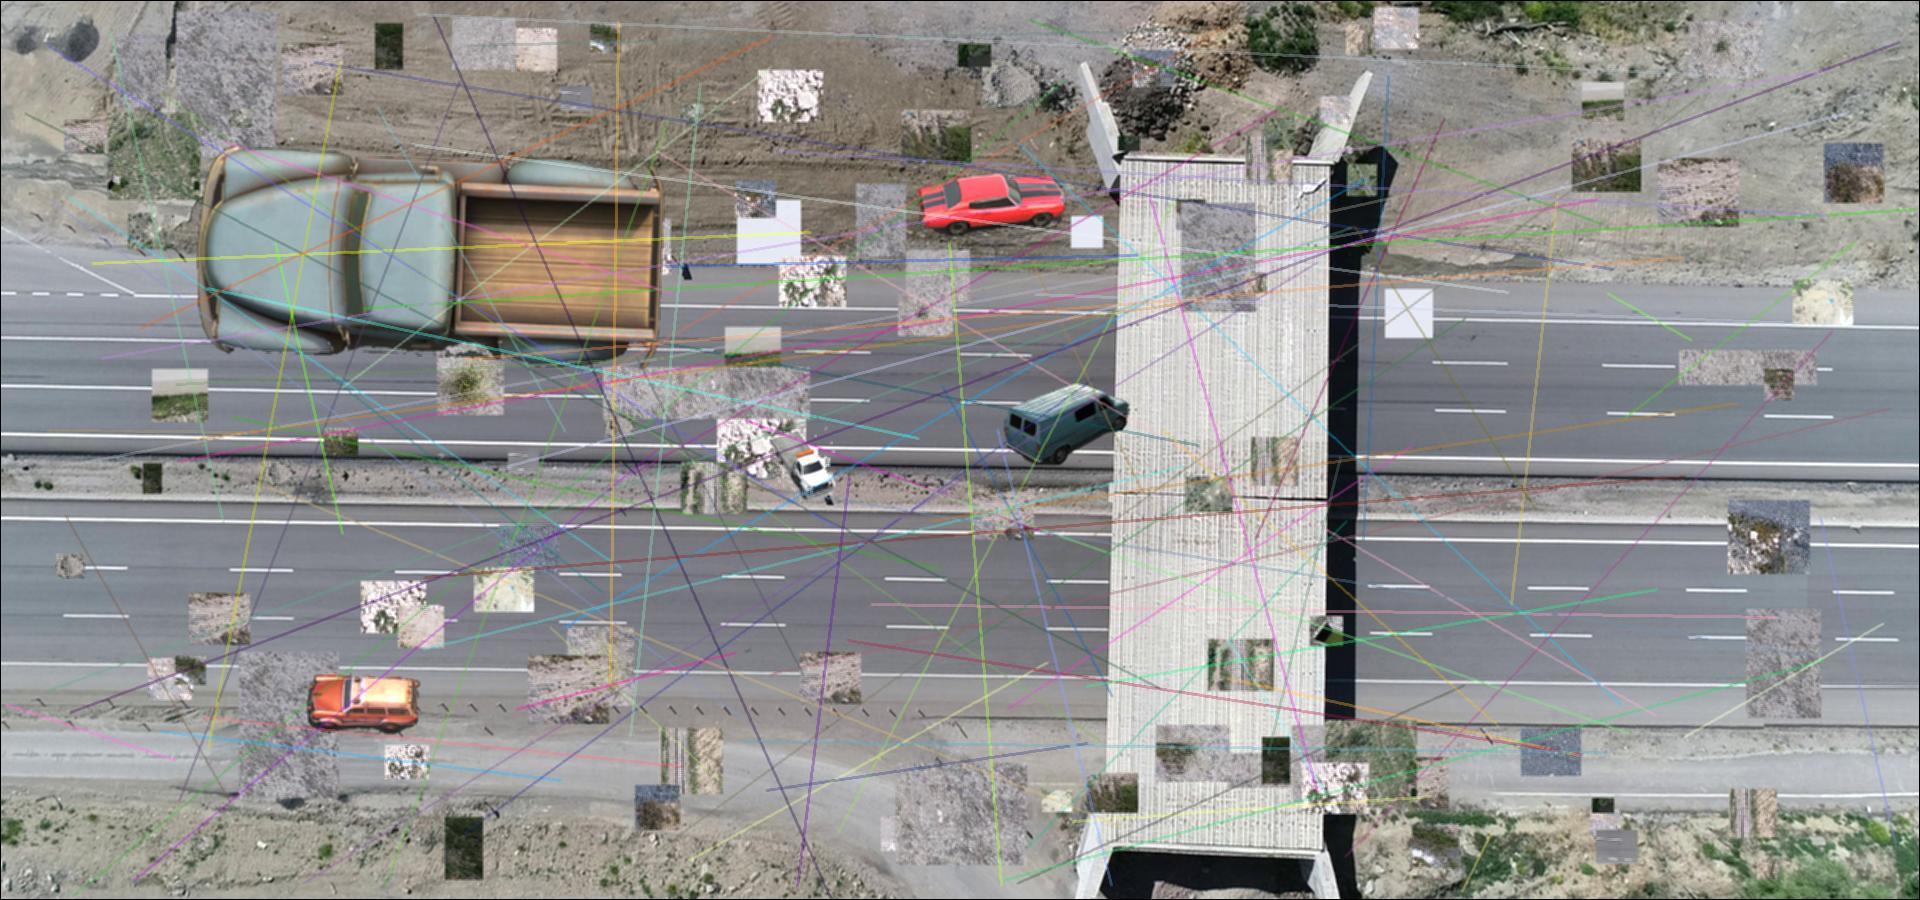arac: (193, 144, 667, 373), (1004, 380, 1129, 465), (915, 171, 1070, 236), (307, 671, 420, 733), (767, 426, 839, 500)
